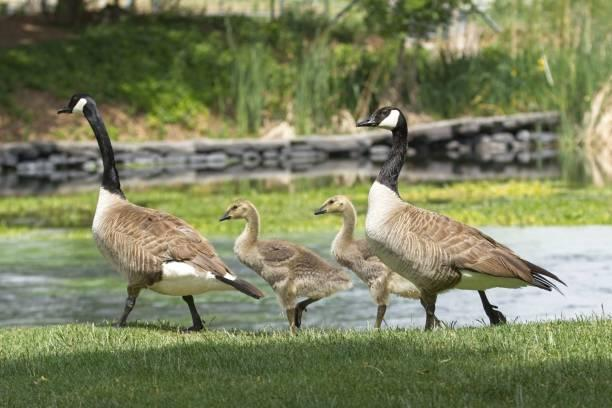Canadian-Goose: (356, 91, 548, 328), (58, 91, 228, 329), (218, 200, 335, 333), (318, 187, 405, 321)
